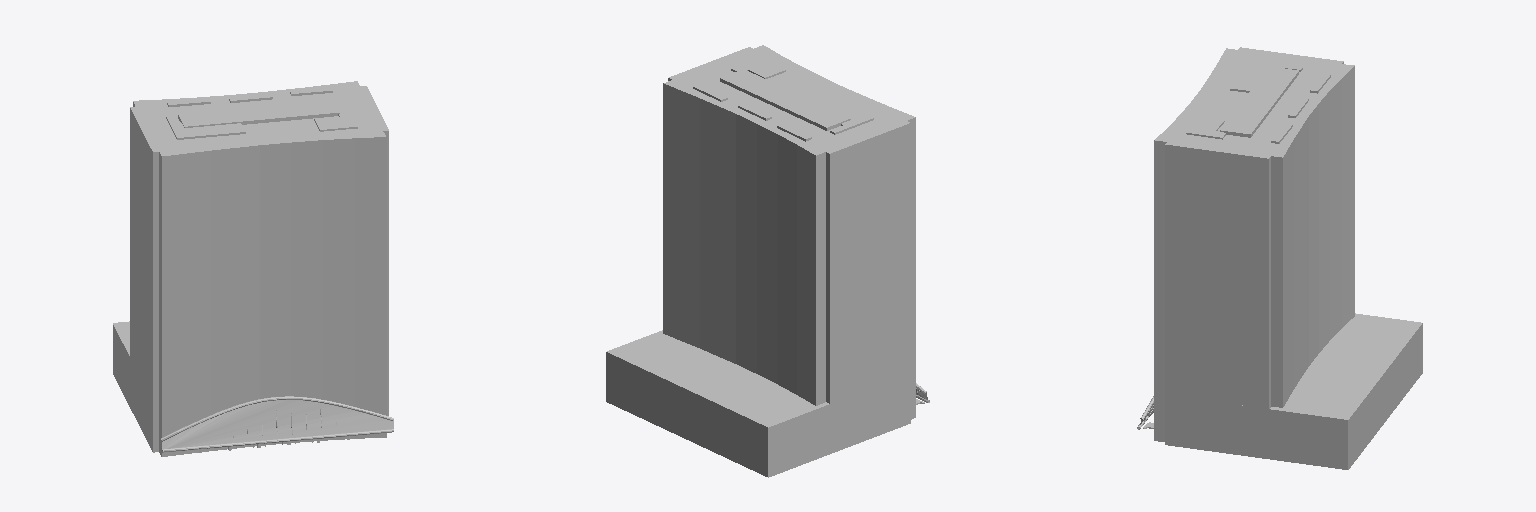
The model's file is house.obj.
3 views of the same model, side by side, from view 1: azimuth 30°, elevation 25°; view 2: azimuth 150°, elevation 25°; view 3: azimuth 270°, elevation 25° (orthographic).
Visible parts, largest first — view 1: B[number redacted]A1_Mesh; view 2: B[number redacted]A1_Mesh; view 3: B[number redacted]A1_Mesh.
Boxes of the visible parts, <box> form: B[number redacted]A1_Mesh: <box>113,81,393,456</box>; B[number redacted]A1_Mesh: <box>606,45,929,477</box>; B[number redacted]A1_Mesh: <box>1137,47,1422,469</box>.
Bounding box in the file's own units: 84.06 × 95.63 × 81.52.